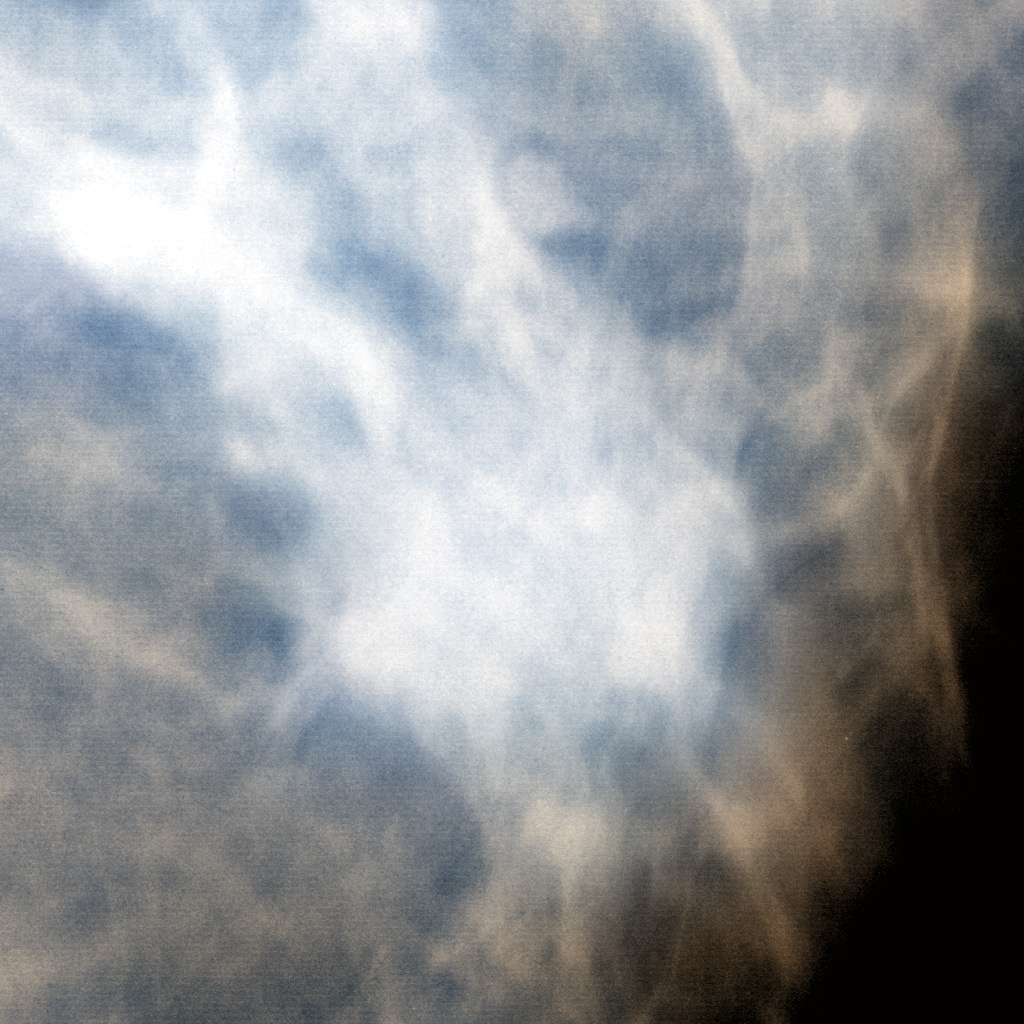tumor: (237, 239, 787, 785)
